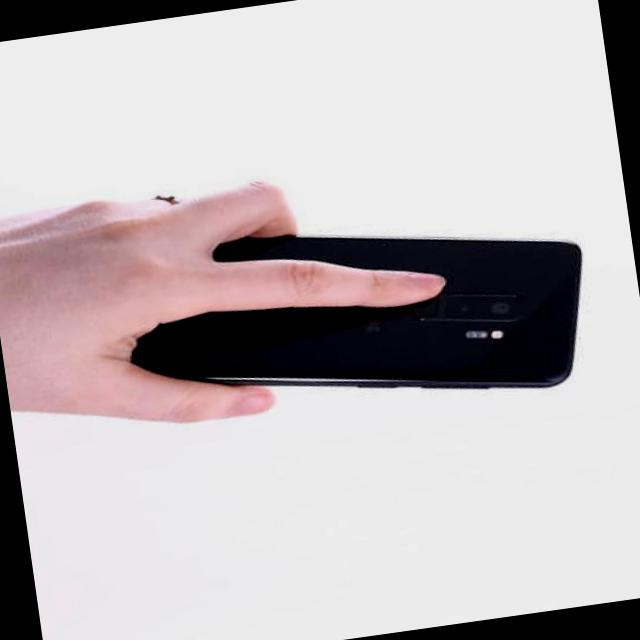lens_back: (484, 298, 512, 320)
phone: (107, 189, 602, 451)
